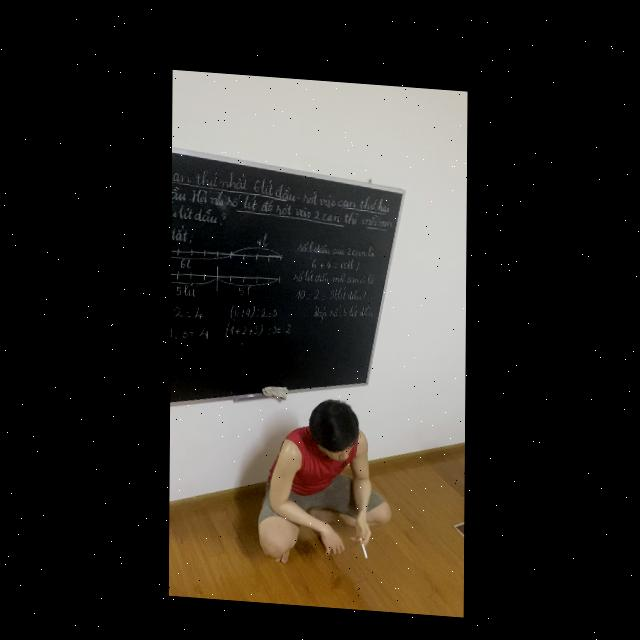cigarette: (359, 532, 369, 553)
